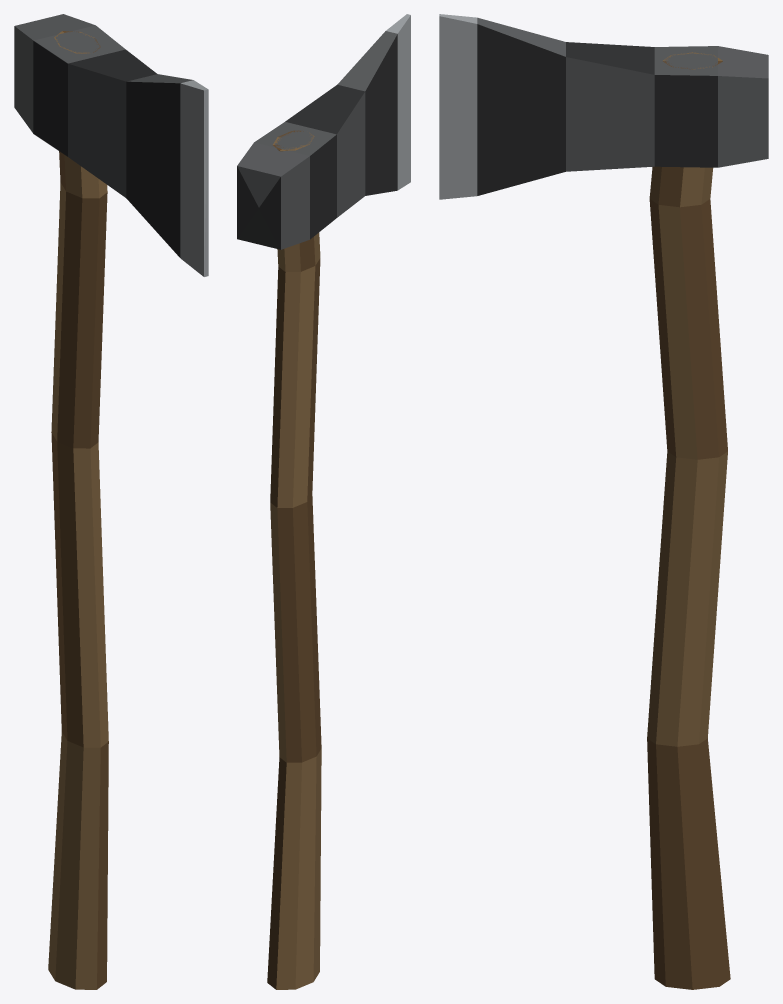
The model's file is axe.glb.
3 renders of one model, left to right at view 1: azimuth 30°, elevation 25°; view 2: azimuth 150°, elevation 25°; view 3: azimuth 270°, elevation 25°, orthographic. The views are drawn at different scales.
Parts seen in each view (by area): view 1: axe; view 2: axe; view 3: axe.
Boxes of the visible parts, x1,y1,x2,y2 form: axe: [14, 14, 208, 989]; axe: [237, 14, 410, 989]; axe: [439, 14, 768, 989].
Size of the model in its own units: 0.056 by 0.84 by 0.26.
